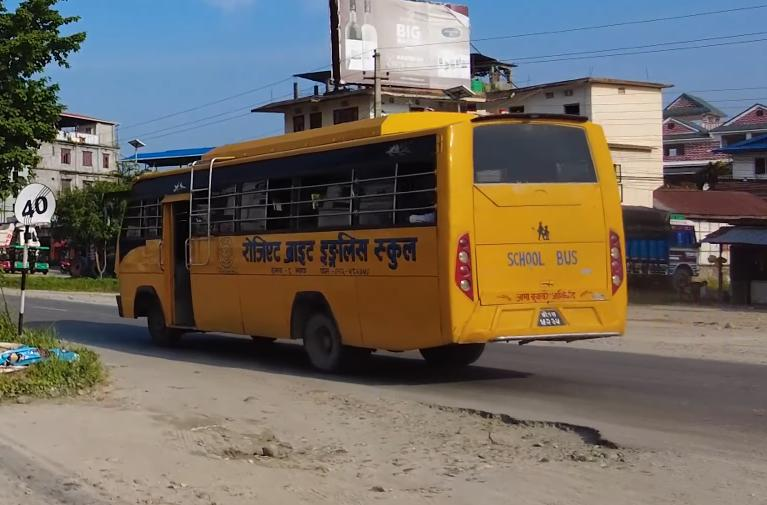school_bus: (116, 102, 631, 374)
truck: (621, 204, 704, 295)
